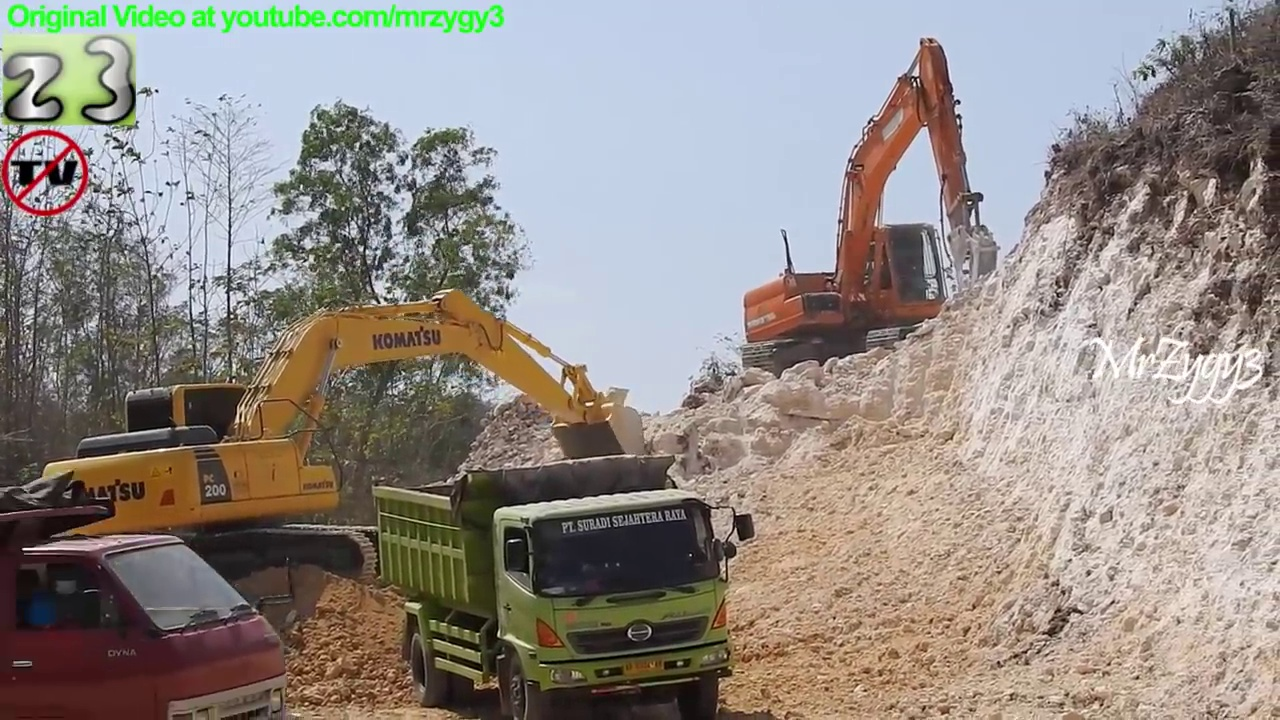excavator: (16, 285, 648, 610), (738, 31, 1007, 378)
truck: (368, 454, 763, 720), (2, 469, 296, 720)
